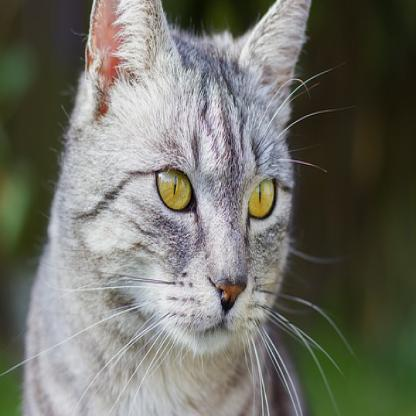cat: (15, 0, 314, 415)
